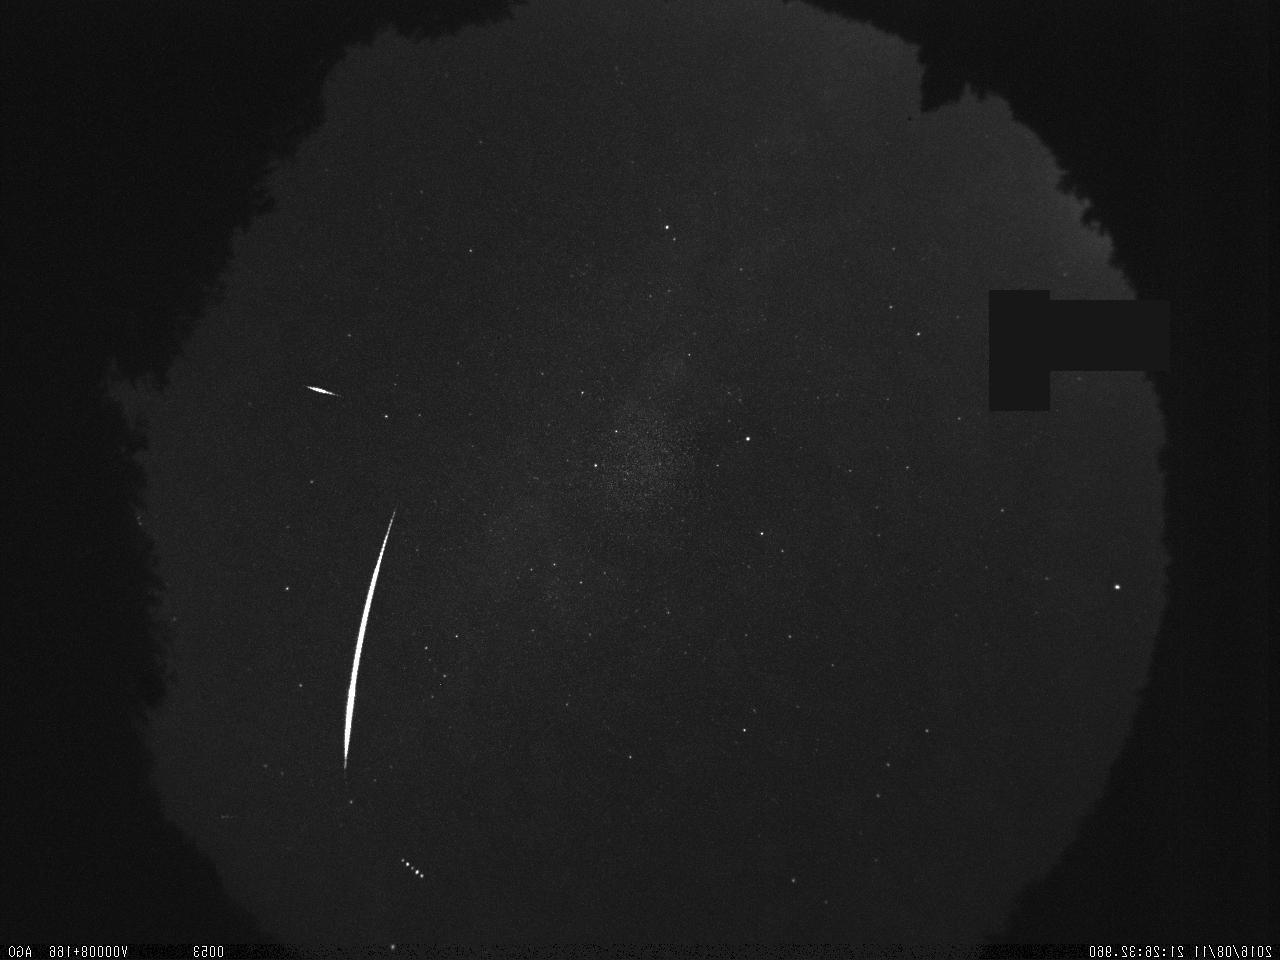meteor: (324, 500, 402, 786), (293, 378, 347, 407)
satelite: (394, 851, 431, 886)
